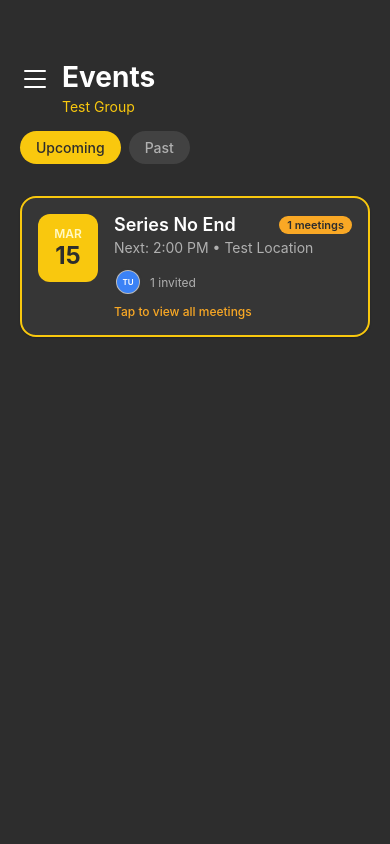
Test: Meeting end_date display › MeetingsScreen - series view modal › should not display en-dash in series view when end_date is null
This screenshot has width=390, height=844.
What coordinates should you click on to do the following:
click the text "Tap to view all meetings"
I would click on:
 (183, 312)
Its box is [114, 304, 252, 319].
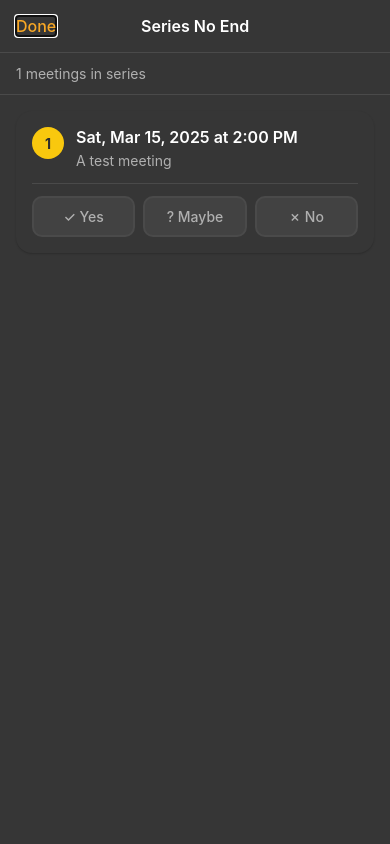
Now the text "Done" is shown, box [16, 16, 56, 36]
